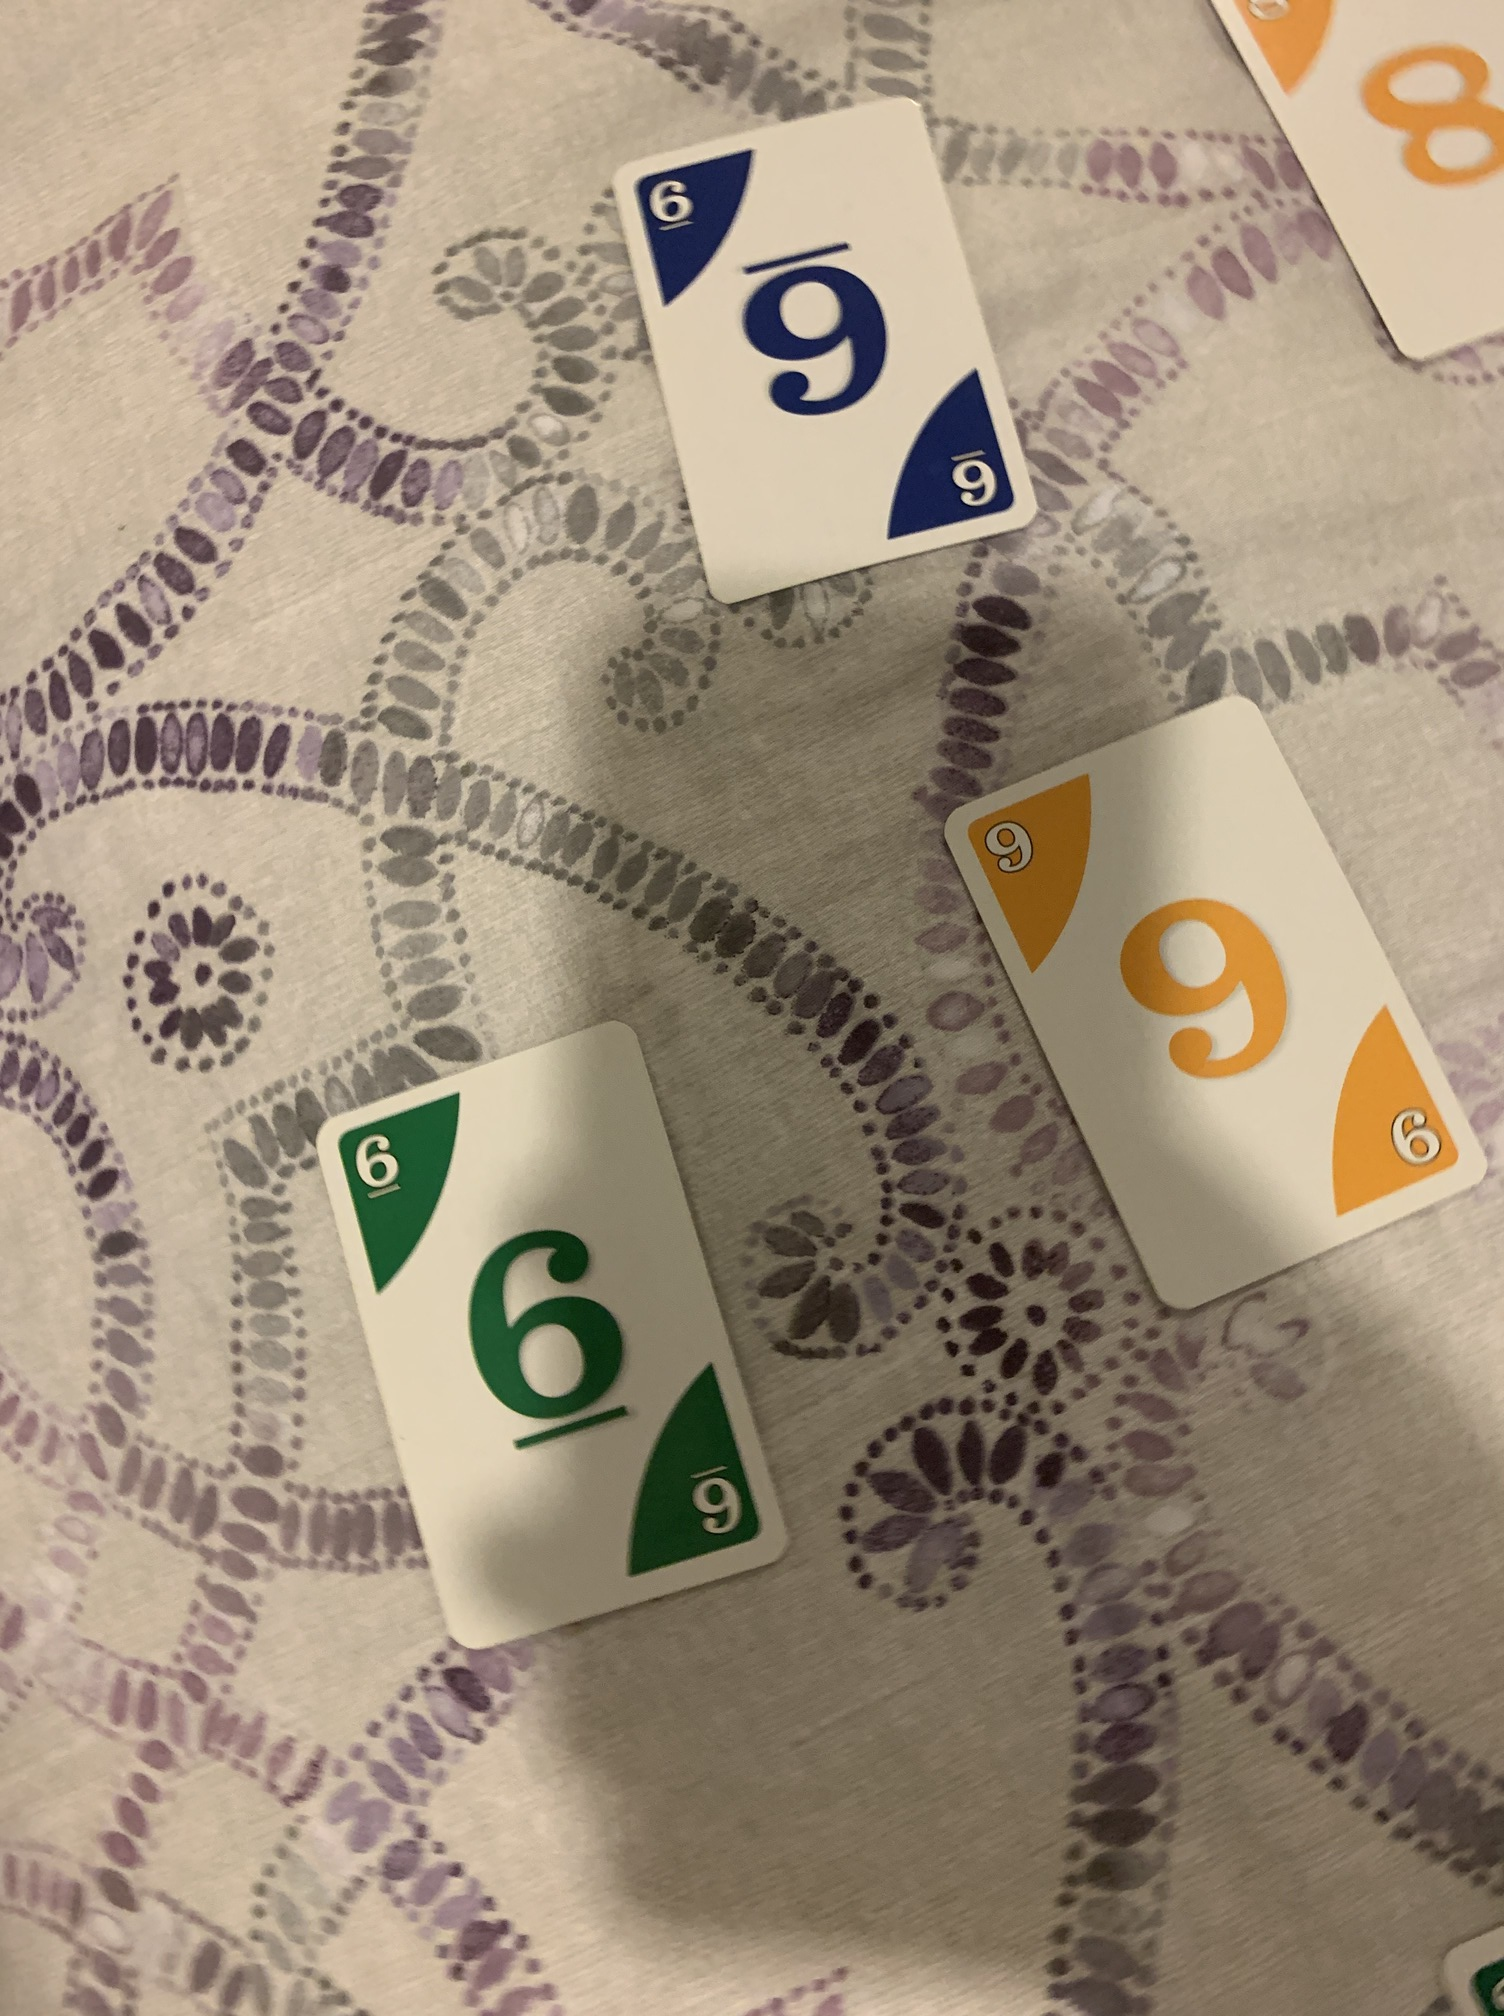nine: (938, 686, 1493, 1326)
six: (299, 1016, 806, 1661), (611, 90, 1040, 616)
